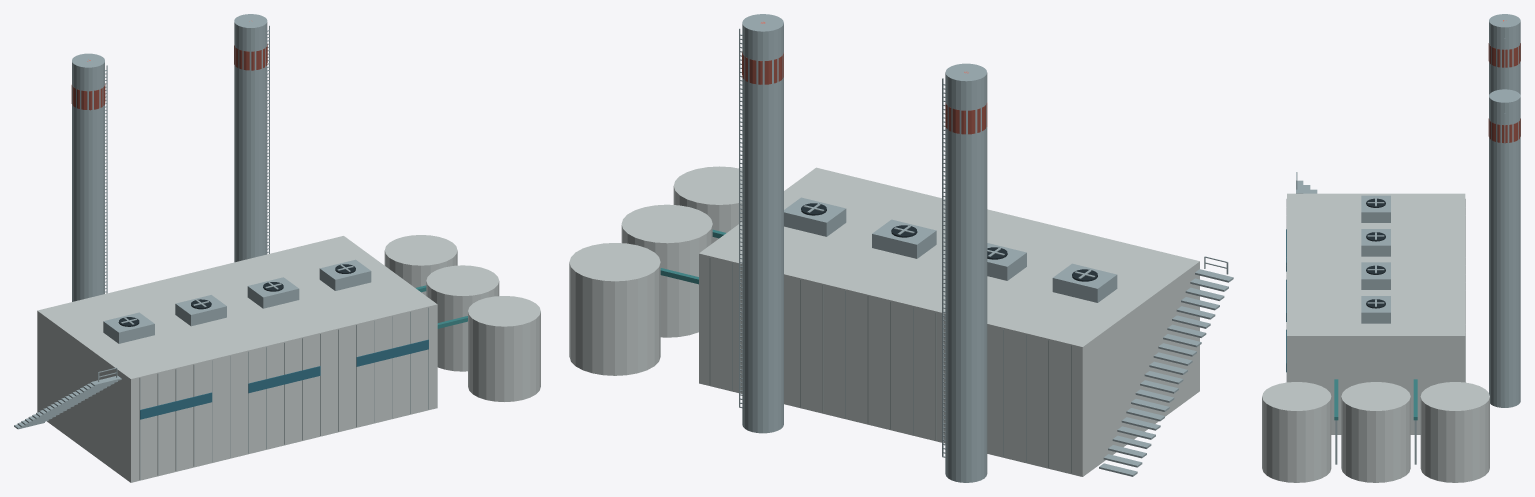
The model's file is power-plant.glb.
3 views of the same model, side by side, from view 1: azimuth 30°, elevation 25°; view 2: azimuth 150°, elevation 25°; view 3: azimuth 270°, elevation 25° (orthographic). The views are drawn at different scales.
Visible parts, largest first — view 1: MainBuilding, Stacks, Tanks, Utilities; view 2: MainBuilding, Stacks, Tanks, Utilities; view 3: MainBuilding, Tanks, Stacks, Utilities.
Boxes of the visible parts, <box> form: MainBuilding: <box>37,236,437,482</box>; Stacks: <box>71,14,269,301</box>; Tanks: <box>384,235,540,401</box>; Utilities: <box>14,259,467,429</box>; MainBuilding: <box>699,167,1199,476</box>; Stacks: <box>739,14,987,482</box>; Tanks: <box>569,166,742,375</box>; Utilities: <box>660,197,1233,476</box>; MainBuilding: <box>1286,193,1465,434</box>; Tanks: <box>1262,382,1489,482</box>; Stacks: <box>1488,14,1520,407</box>; Utilities: <box>1296,172,1417,464</box>.
Bounding box in the file's own units: 49 × 34 × 26.12.
